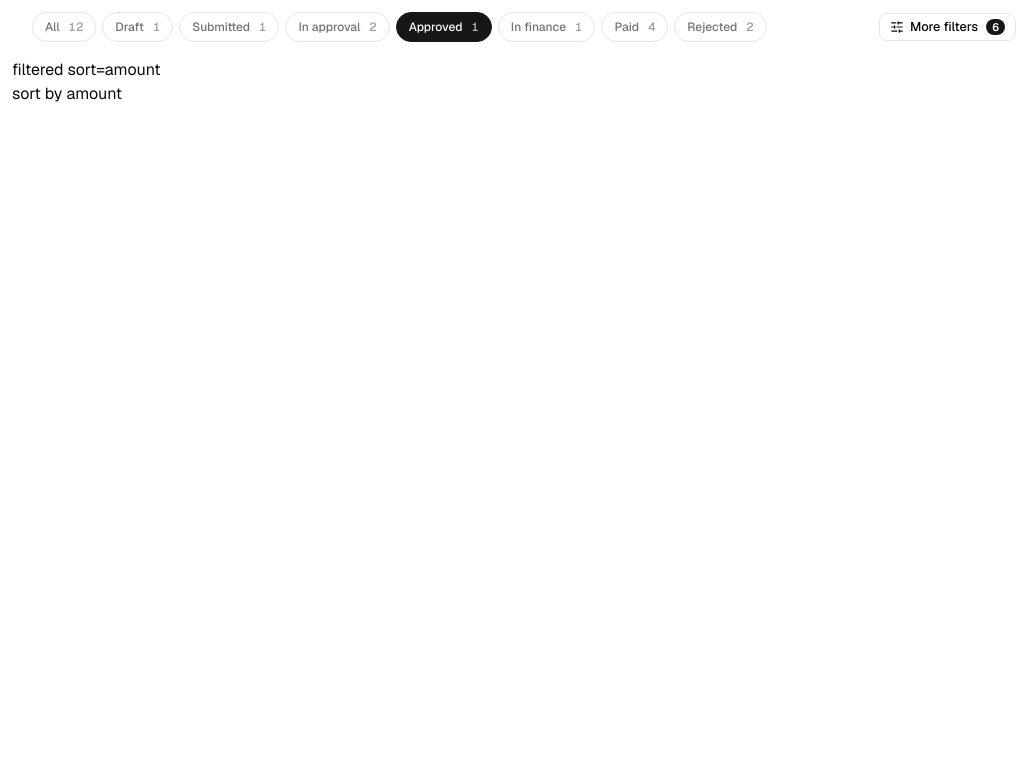
Test case: ExpenseFilterSection URL sync (ADR-0021) › hydrates the chip, search, advanced filters, and sort from the URL
Expected: the text "filtered sort=amount" is shown, [12,59,161,80]
Click the button "More filters 6": (947, 27) [879,13,1016,41]
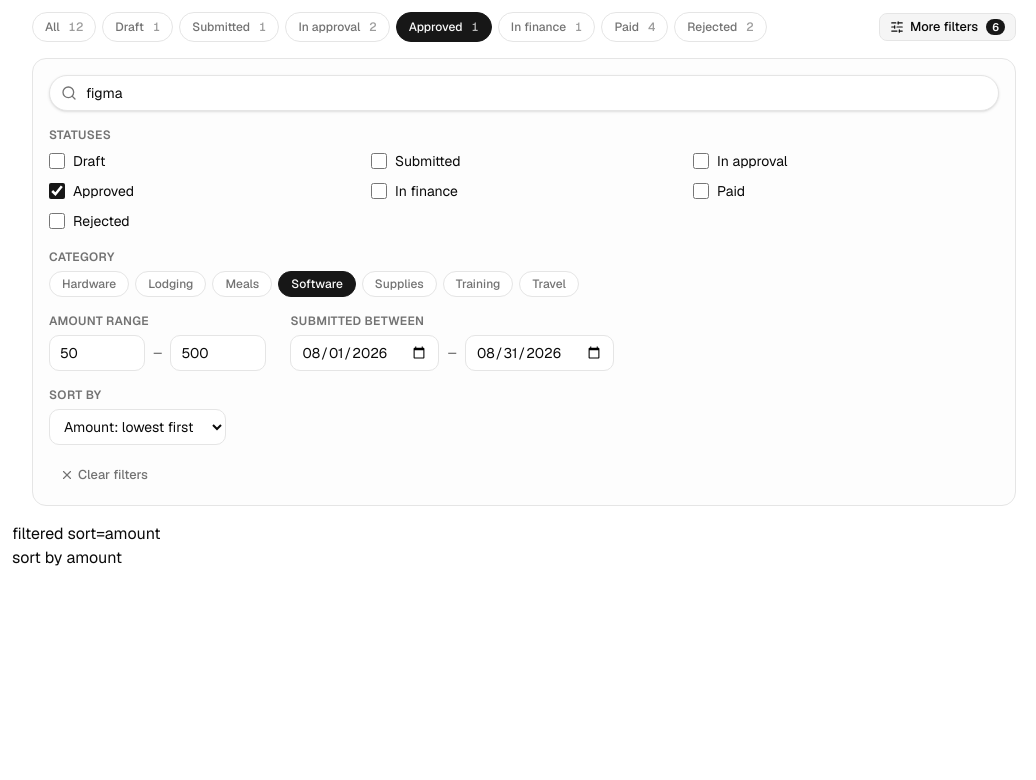
Now the search field named "Search expenses" holds "figma", box [49,75,999,111]
Now the number field named "Minimum amount" holds "50", box [49,335,145,371]
Now the number field named "Maximum amount" holds "500", box [170,335,266,371]
